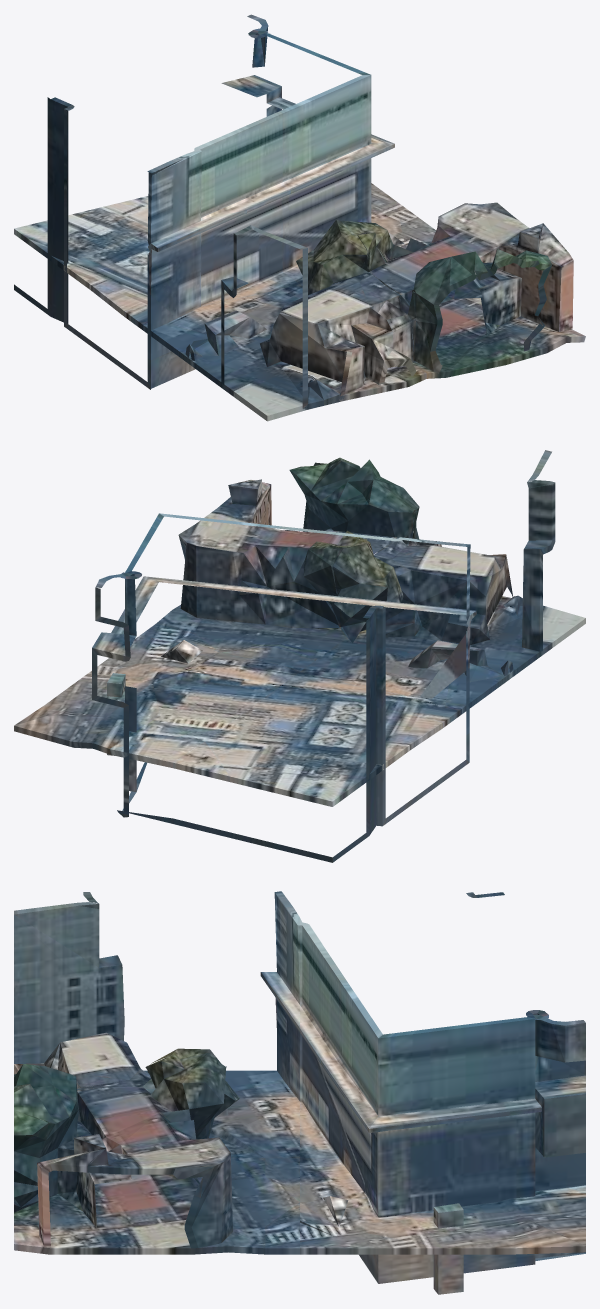
The model's file is chunk_-9_-3.glb.
3 renders of one model, top to bottom at view 1: azimuth 30°, elevation 25°; view 2: azimuth 150°, elevation 25°; view 3: azimuth 270°, elevation 25°, orthographic. The views are drawn at different scales.
Parts seen in each view (by area): view 1: hero-chunk; view 2: hero-chunk; view 3: hero-chunk.
Part boxes in pixels (x1,y1,x2,y2): hero-chunk: [14, 14, 585, 421]; hero-chunk: [14, 450, 585, 862]; hero-chunk: [14, 891, 585, 1294].
Size of the model in its own units: 55.73 by 37.09 by 76.33.
2 materials, 2 textured.
